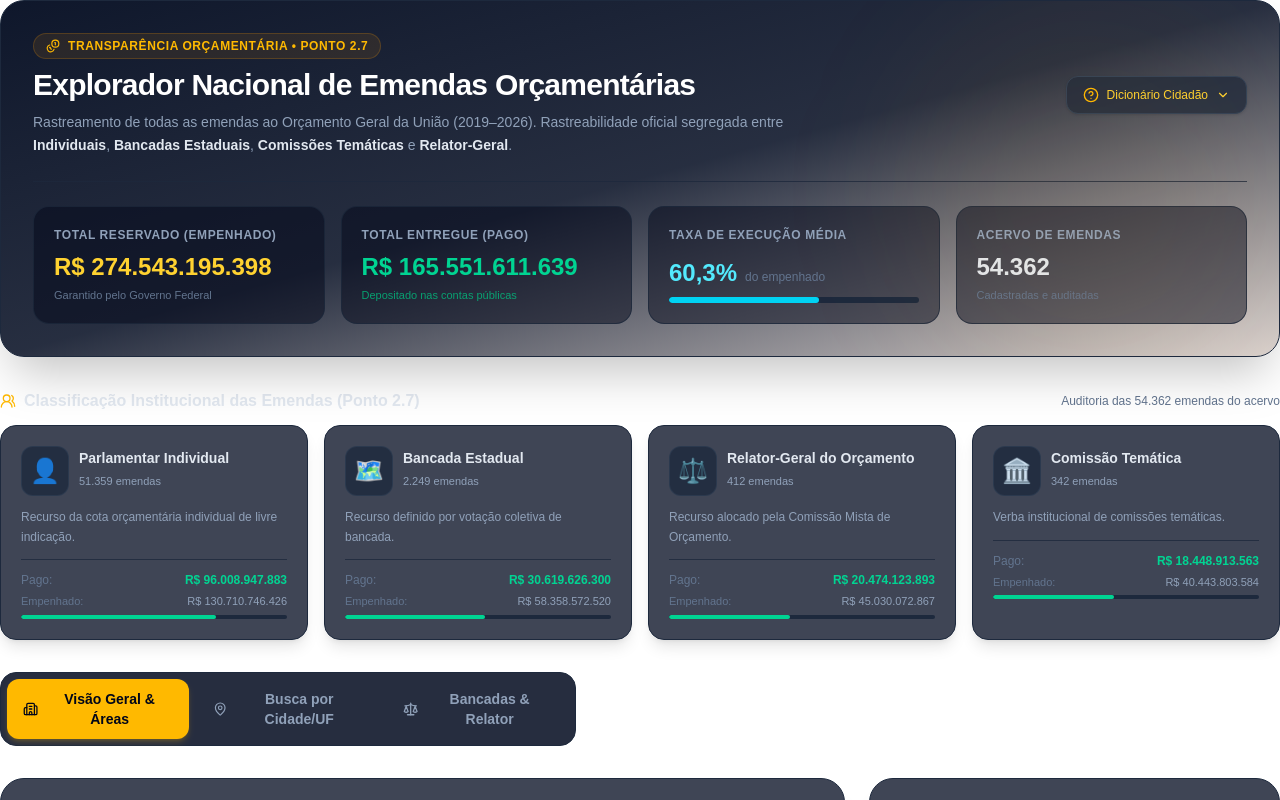
EmendasExplorerPanel › termo curto não consulta a API e pede mais letras
Expected: the heading "Explorador Nacional de Emendas Orçamentárias" is shown, 33,67 -> 801,103
Click the button "Busca por Cidade/UF" at point(288, 709), box 197,679 -> 379,739
(page scrolled)
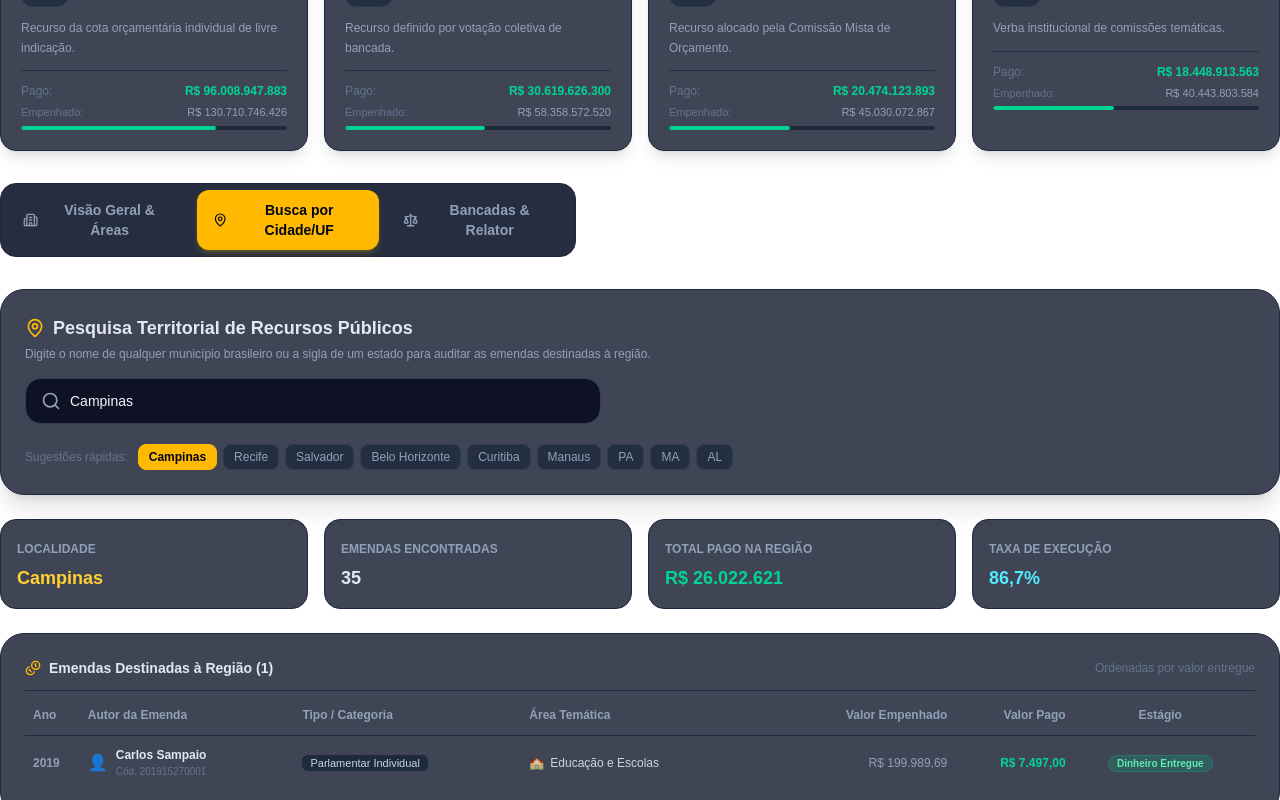
Result: the text "Carlos Sampaio" is shown at 116,748 -> 206,763
Replace the text in the field named "Pesquisar por município ou estado" with "Re" at point(313, 401), box 25,378 -> 601,424
(page scrolled)
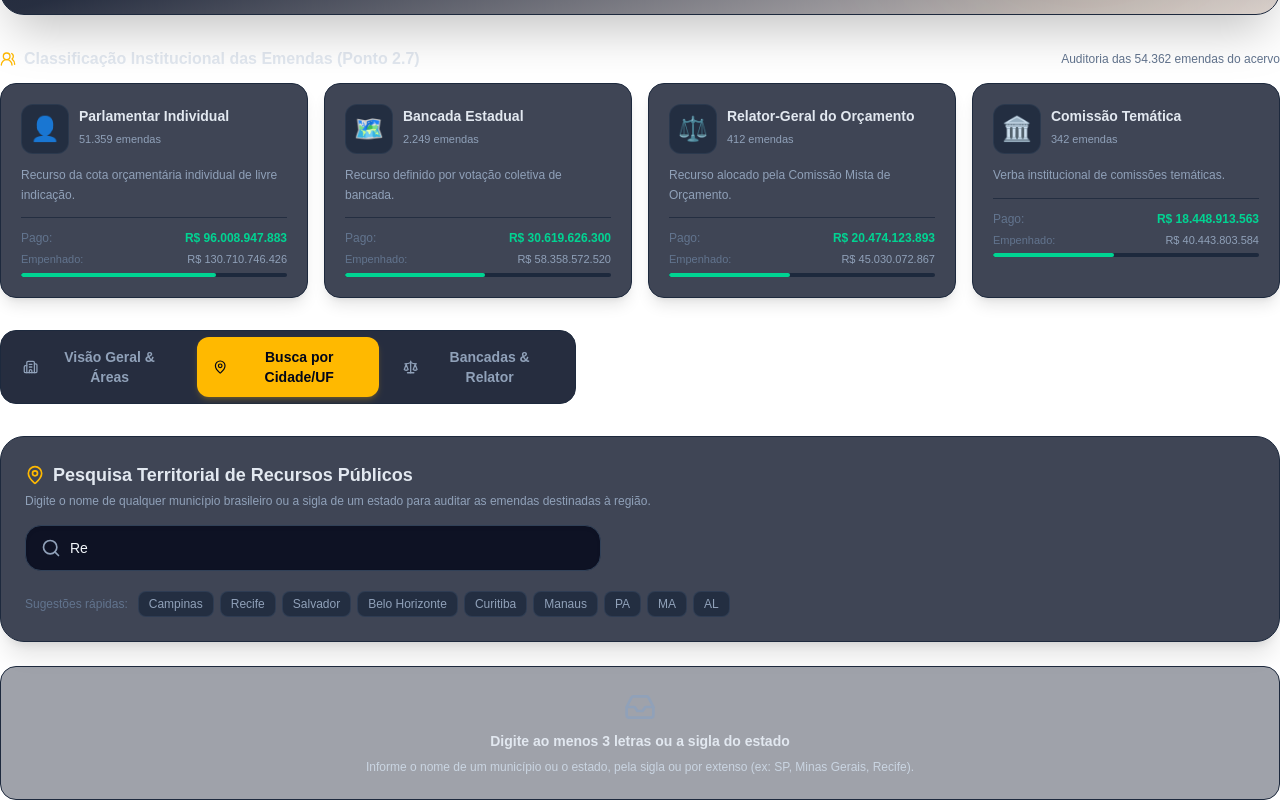
Result: the heading "Digite ao menos 3 letras ou a sigla do estado" is shown at 490,733 -> 790,749
Replace the text in the field named "Pesquisar por município ou estado" with "sp" at point(313, 548), box 25,525 -> 601,571
(page scrolled)
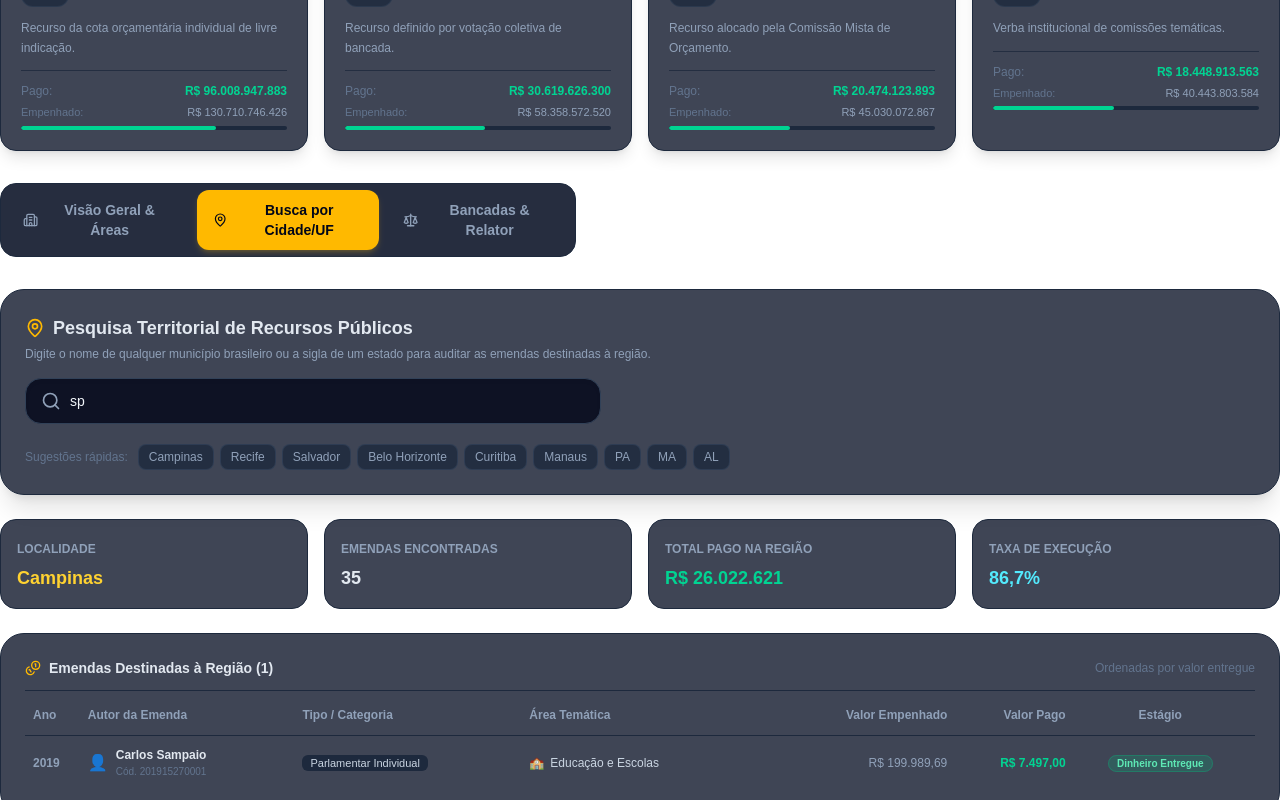
Result: the text "Carlos Sampaio" is shown at 116,748 -> 206,763
